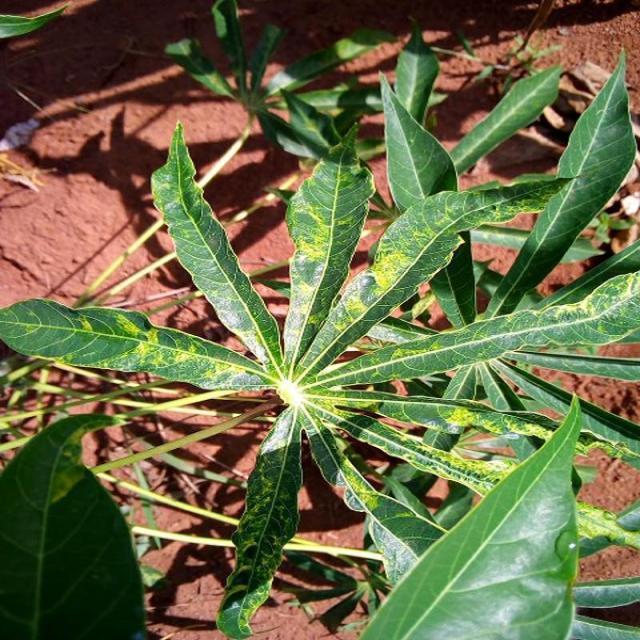cassava leaf: (0, 36, 638, 637), (358, 390, 582, 638), (148, 118, 282, 372), (0, 412, 147, 638)
